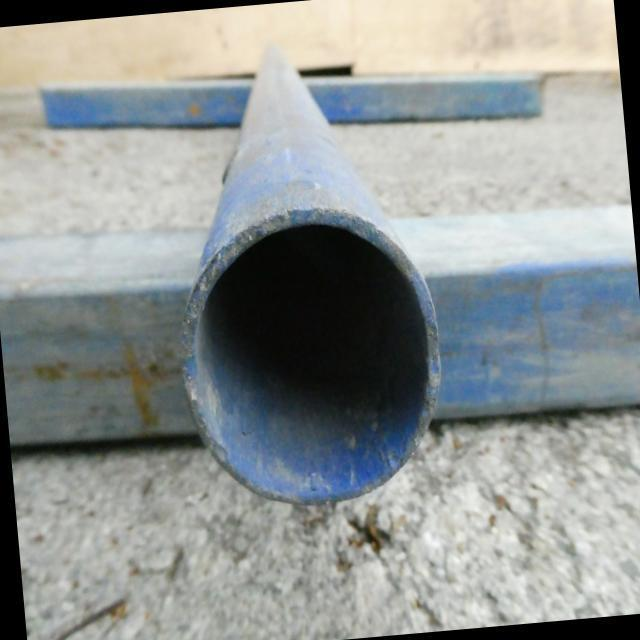pipe: (181, 210, 442, 508)
